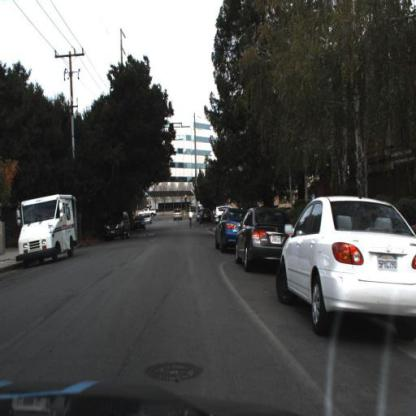biker: (189, 208, 194, 229)
car: (278, 195, 416, 341), (17, 194, 78, 268), (236, 205, 293, 278), (234, 205, 290, 271), (215, 207, 241, 253), (104, 209, 131, 241), (132, 215, 146, 233), (134, 215, 146, 234), (172, 210, 184, 223)
truck: (14, 193, 78, 267)
